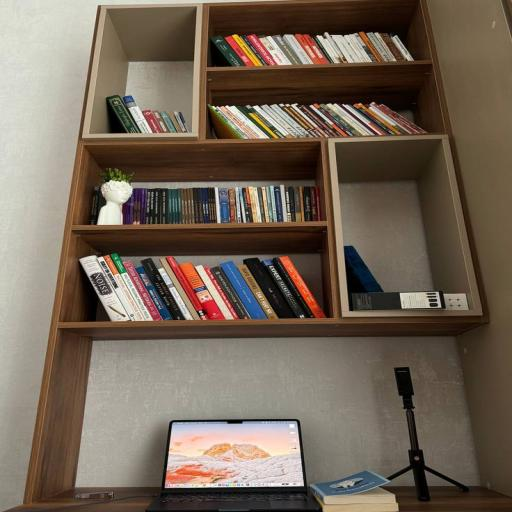bed: (79, 256, 130, 322), (310, 470, 396, 505), (180, 262, 224, 320), (106, 95, 140, 133)
corridor: (146, 419, 321, 512)
